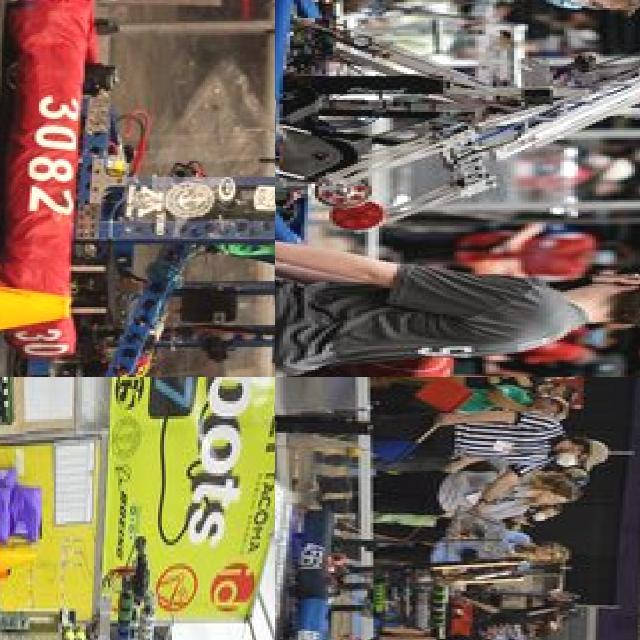FRC-Robots: (275, 0, 640, 377), (0, 0, 275, 377), (0, 441, 275, 640), (287, 488, 570, 624), (280, 595, 556, 640)
